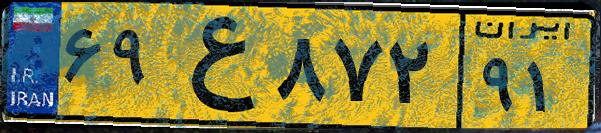1: (525, 38, 570, 115)
2: (385, 28, 445, 110)
6: (57, 26, 110, 100)
7: (330, 28, 385, 110)
8: (270, 28, 330, 110)
9: (475, 38, 525, 113), (110, 28, 158, 98)
ع: (158, 12, 270, 120)
